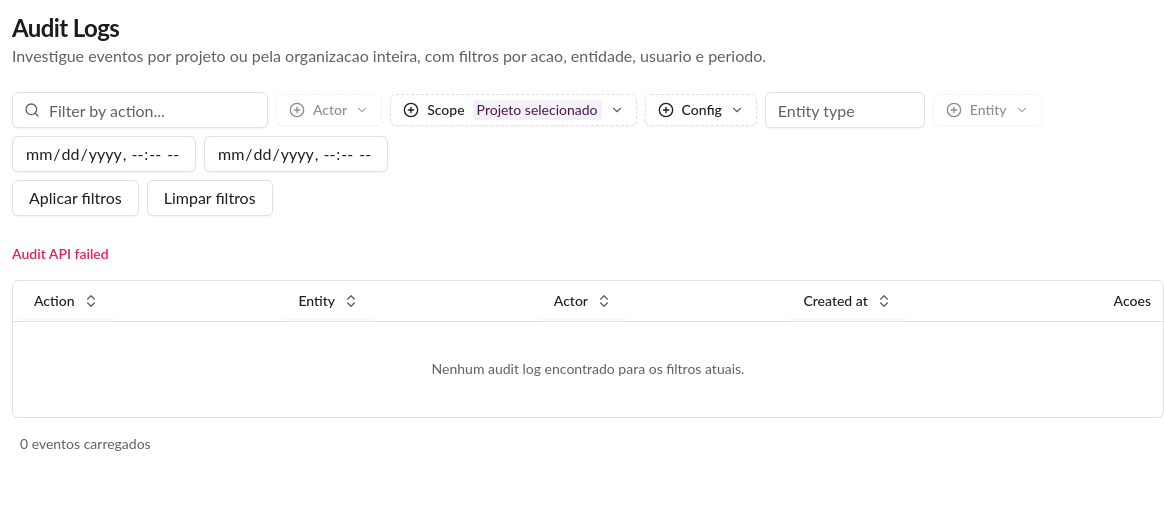
AuditLogs integration › shows query and validation errors
Check: the text "Audit API failed" is shown, box [12,245,109,262]
Type "2026-05-16T12:00" into the field named "Filtrar a partir de" at (104, 154), box [12,136,196,172]
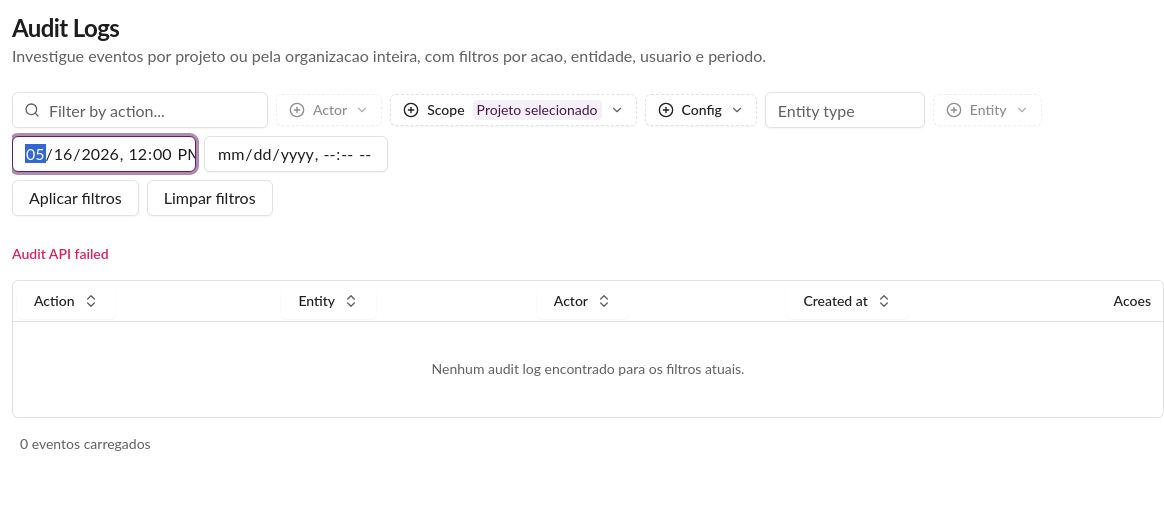
Type "2026-05-15T12:00" into the field named "Filtrar ate" at (296, 154), box [204,136,388,172]
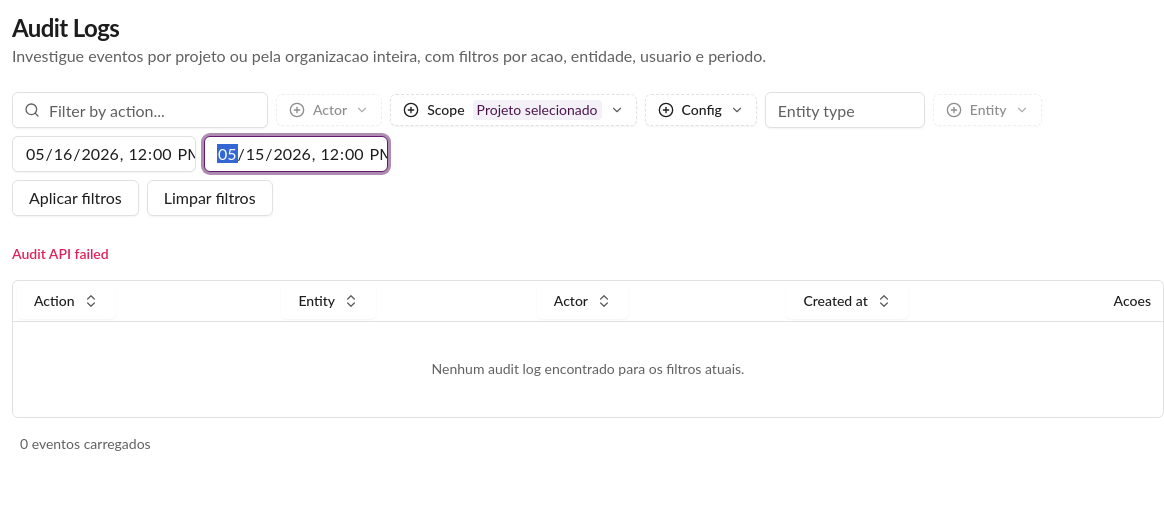
Click the button "Aplicar filtros" at (75, 198), box [12,180,139,216]
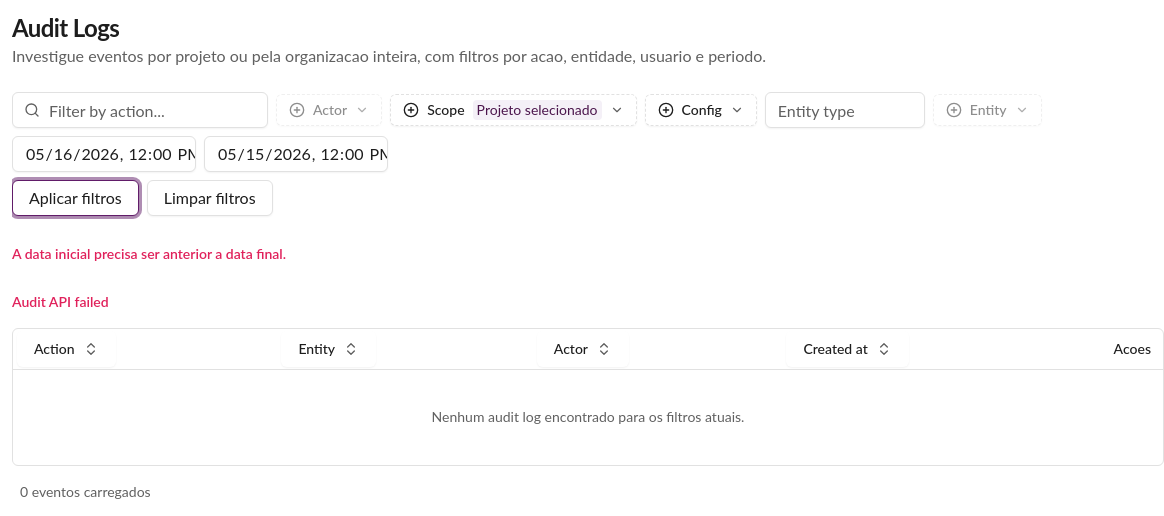
Check: the message reads "A data inicial precisa ser anterior a data final.", box [12,245,286,262]
